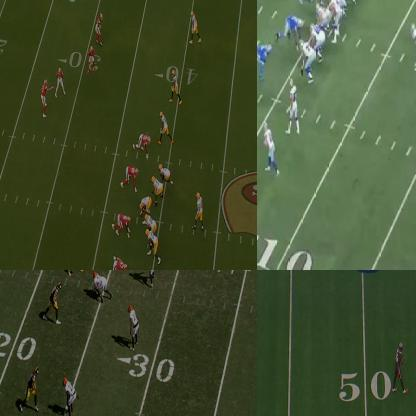CENTER: (315, 3, 331, 33), (139, 196, 152, 213)
DB: (62, 379, 74, 415), (395, 341, 404, 384), (53, 283, 62, 324), (130, 304, 138, 349), (57, 66, 67, 96), (43, 80, 49, 115), (96, 13, 102, 44)
LB: (87, 46, 96, 74), (145, 270, 157, 285)
QB: (329, 0, 343, 43), (196, 191, 203, 231)
SKILL: (286, 77, 302, 136), (262, 121, 278, 175), (25, 368, 38, 407), (159, 110, 170, 142), (172, 69, 182, 102), (189, 10, 199, 42), (152, 234, 160, 262), (410, 23, 415, 67)
